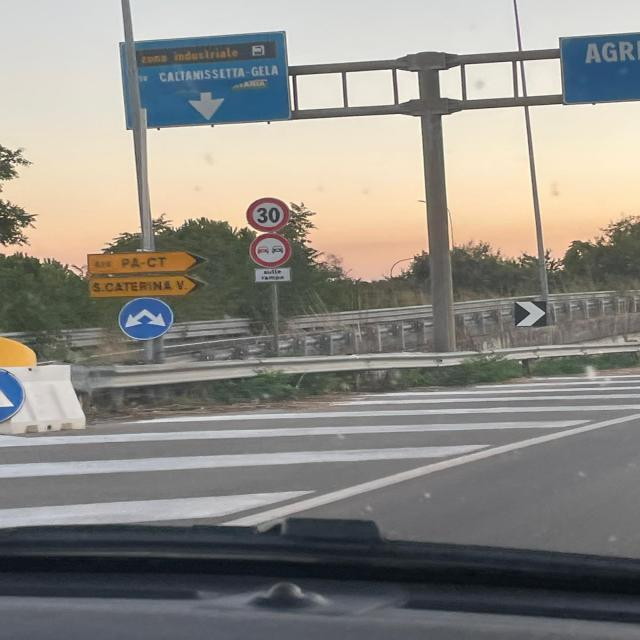forb_overtake: (248, 233, 293, 268)
forb_speed_over_30: (246, 197, 291, 233)
